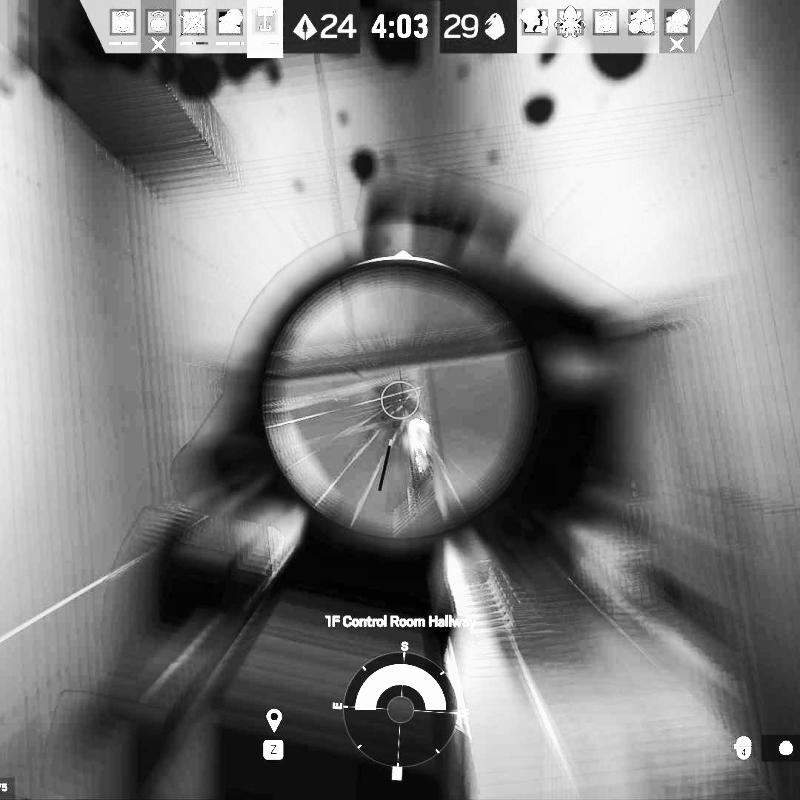Character: (408, 418, 435, 482)
Head: (409, 419, 430, 439)
